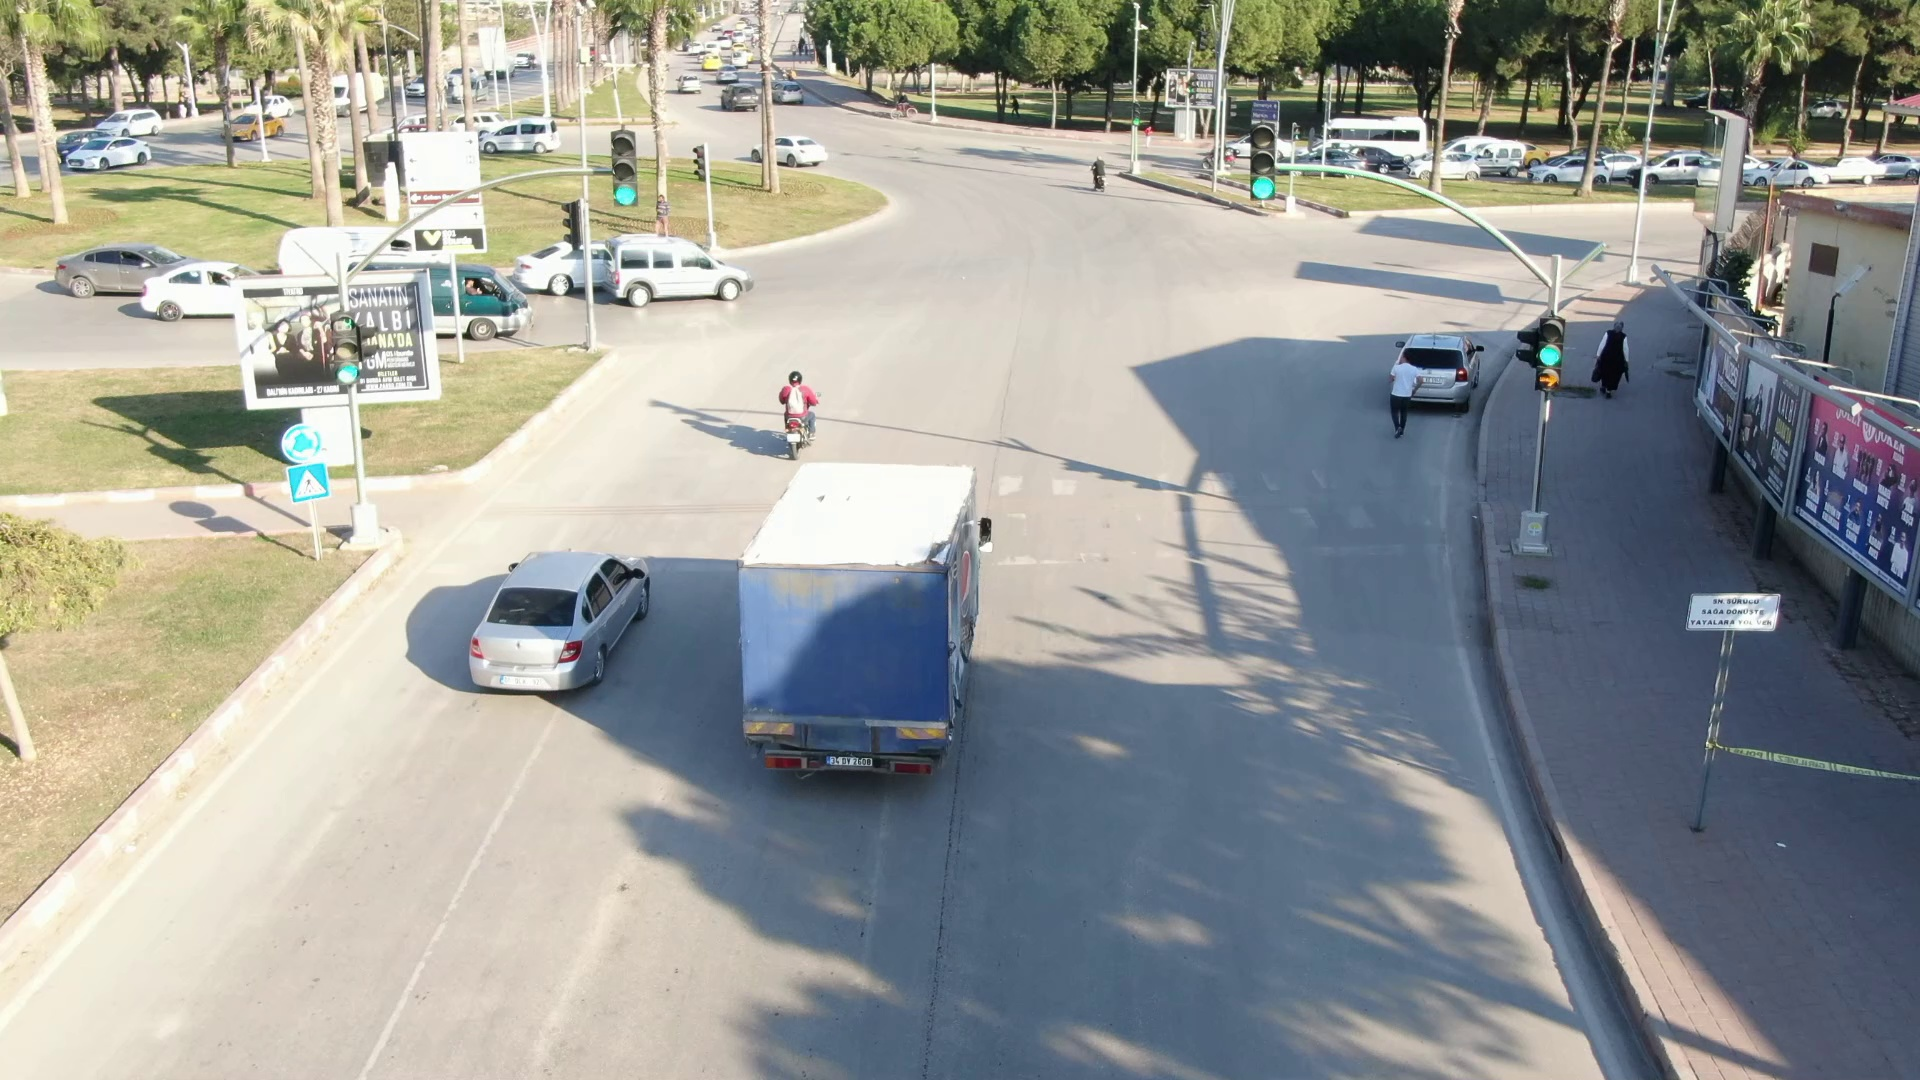car: (457, 529, 665, 703), (601, 229, 759, 309), (53, 237, 201, 312), (429, 254, 545, 348), (474, 114, 576, 157), (63, 132, 160, 175), (1525, 150, 1613, 188), (744, 133, 826, 173), (715, 79, 764, 117), (672, 70, 705, 95)
person: (753, 351, 840, 424), (1588, 310, 1646, 399), (1375, 346, 1424, 449), (648, 188, 683, 234)
